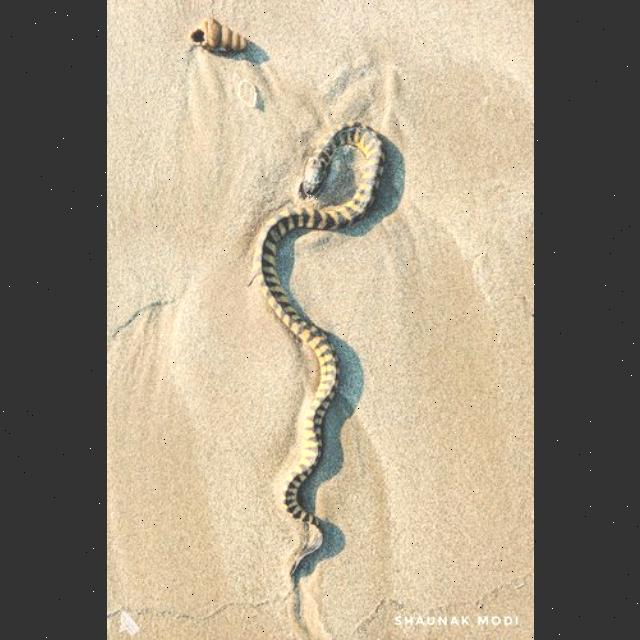snake: (253, 106, 397, 590)
